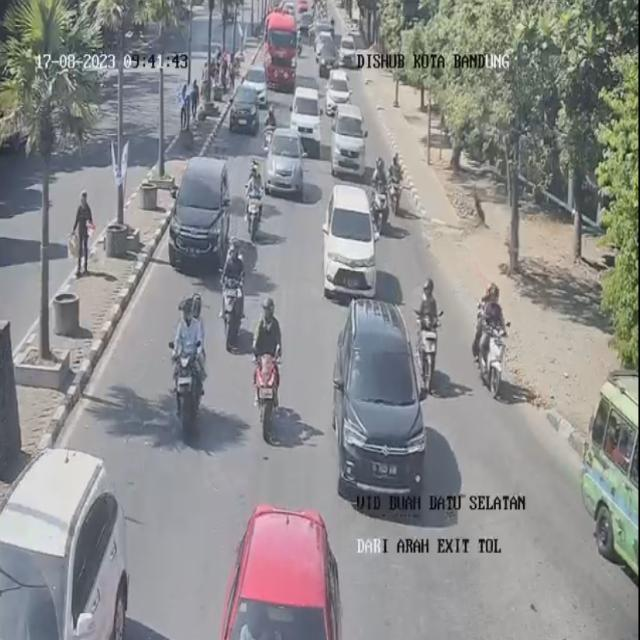cars: (1, 435, 132, 640), (332, 296, 428, 518), (234, 491, 347, 640), (580, 356, 640, 574), (175, 150, 236, 272), (325, 177, 377, 297), (263, 126, 305, 199), (332, 100, 370, 173), (289, 74, 319, 149), (328, 70, 352, 116), (318, 36, 340, 86), (228, 86, 254, 127), (243, 58, 266, 100), (340, 33, 362, 76)
motorcycle: (167, 293, 211, 435), (472, 281, 514, 397), (217, 240, 253, 326), (412, 273, 442, 375), (245, 144, 268, 246), (374, 152, 391, 222), (388, 146, 404, 208), (263, 98, 279, 148)
truck: (258, 10, 305, 99)
